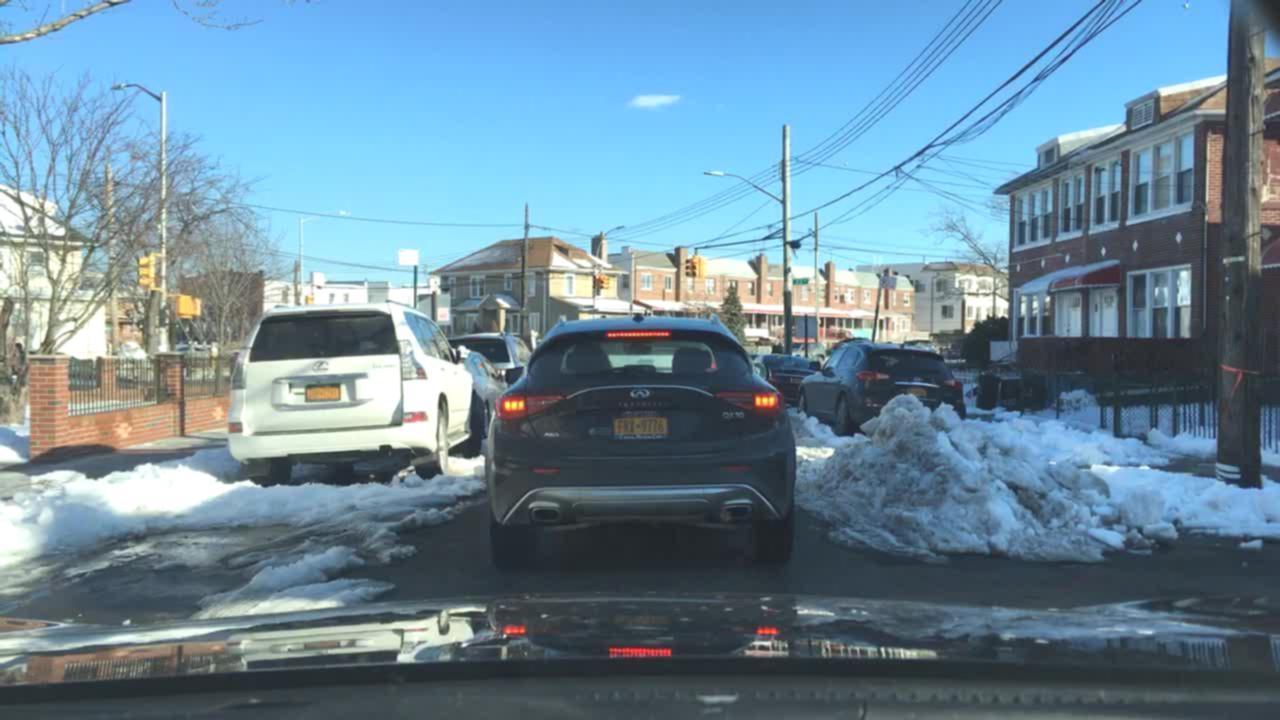Infiniti: (630, 387, 655, 401)
lexus: (307, 356, 334, 375)
